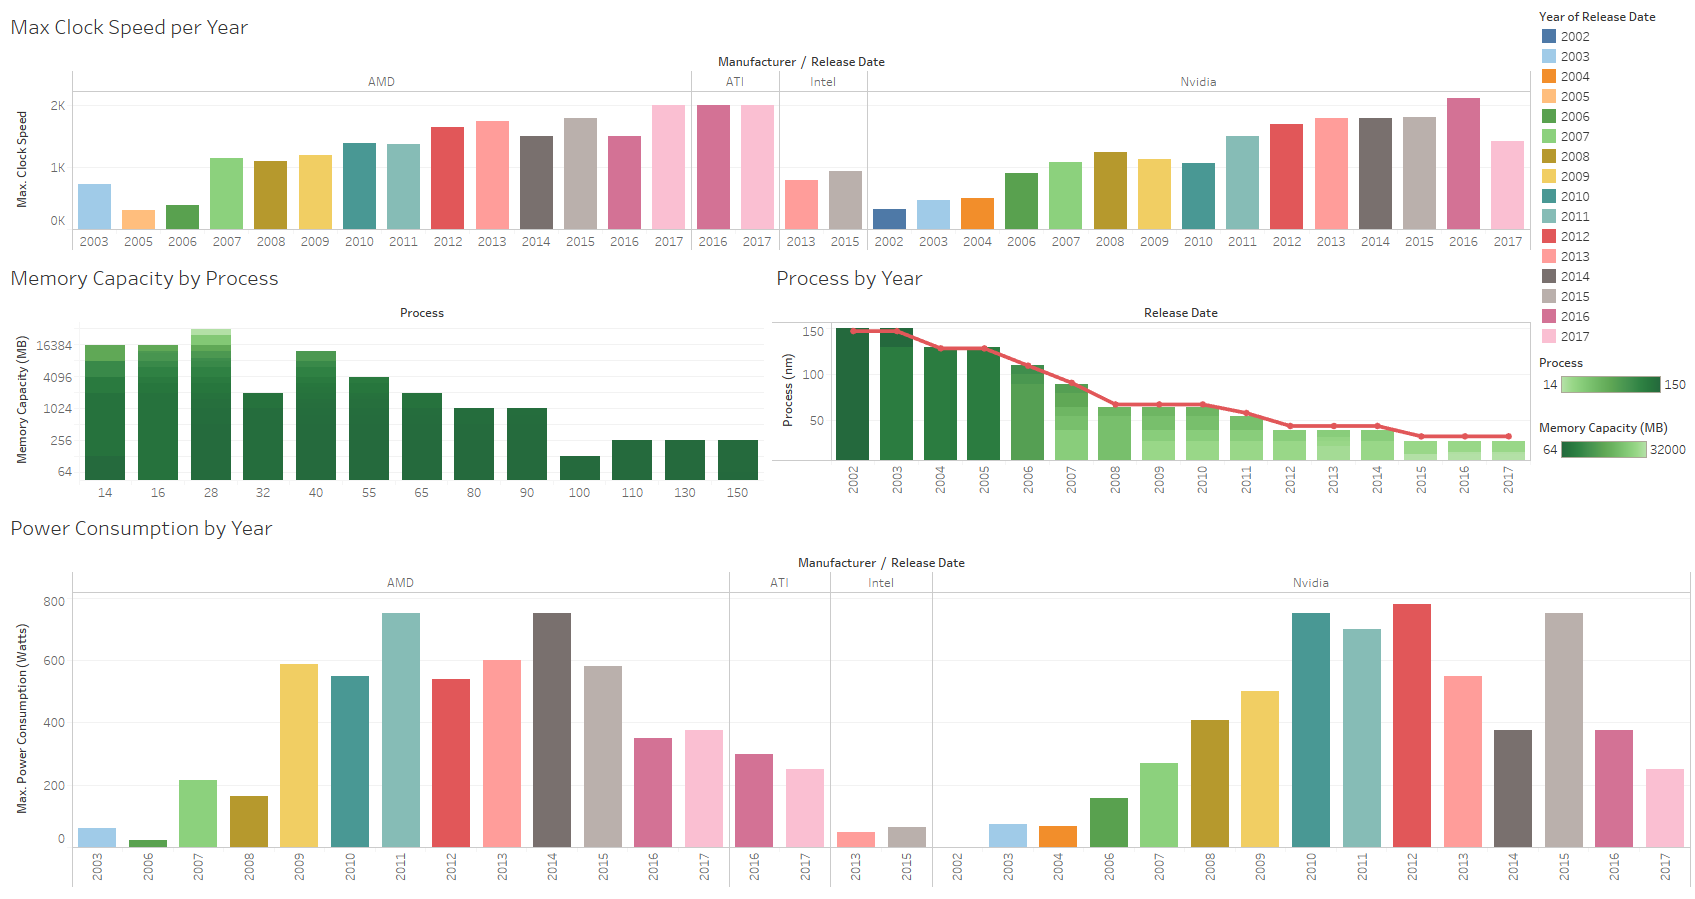

Layout of this report page (visuals, bound fields, positions):
{"tool":"tableau","page":{"name":"Comparison by Year","canvas":[1000,1000],"units":"permille","ordinal":0},"visuals":[{"type":"worksheet","box":[0,0,1000,1000]},{"type":"worksheet","param":"horz","box":[4.7,8.8,990.6,554.2]},{"type":"worksheet","box":[4.7,8.8,897,554.2]},{"type":"worksheet","title":"Main 1","mark":"Bar","rows":["Clock Speed"],"cols":["Manufacturer","Release Date"],"box":[4.7,8.8,897,277.1]},{"type":"worksheet","param":"vert","box":[901.7,8.8,93.6,554.2]},{"type":"worksheet","title":"Main 1","mark":"Bar","rows":["Clock Speed"],"cols":["Manufacturer","Release Date"],"param":"[federated.0wlur4q09sdy9m19qv9sl0aawb4t].[yr:Release Date:ok]","box":[901.7,8.8,93.6,382.7]},{"type":"worksheet","title":"Main 4","mark":"Bar","rows":["Memory"],"cols":["Process"],"box":[4.7,286,448.5,277.1]},{"type":"worksheet","title":"Main 3","mark":"Bar","rows":["Process","Process"],"cols":["Release Date"],"box":[453.2,286,448.5,277.1]},{"type":"worksheet","title":"Main 3","mark":"Bar","rows":["Process","Process"],"cols":["Release Date"],"param":"[federated.0wlur4q09sdy9m19qv9sl0aawb4t].[none:Process:qk]","box":[901.7,391.6,93.6,71.9]},{"type":"worksheet","title":"Main 4","mark":"Bar","rows":["Memory"],"cols":["Process"],"param":"[federated.0wlur4q09sdy9m19qv9sl0aawb4t].[none:Memory:qk]","box":[901.7,463.5,93.6,71.9]},{"type":"worksheet","title":"Main 5","mark":"Bar","rows":["Power Consumption"],"cols":["Manufacturer","Release Date"],"box":[4.7,563.1,990.6,428.1]}]}

Visuals, with their boxes on the dashboard's canvas, which has no fixed pixel size, in thousandths of its width and height (x1, y1, x2, y2). These are canvas units, not pixel positions in the 1695x899 screenshot, which may show the page scaled, cropped or inside an application window:
worksheet: <bbox>0, 0, 1000, 1000</bbox>
worksheet: <bbox>5, 9, 995, 563</bbox>
worksheet: <bbox>5, 9, 902, 563</bbox>
"Main 1" worksheet (Bar marks): <bbox>5, 9, 902, 286</bbox>
worksheet: <bbox>902, 9, 995, 563</bbox>
"Main 1" worksheet (Bar marks): <bbox>902, 9, 995, 392</bbox>
"Main 4" worksheet (Bar marks): <bbox>5, 286, 453, 563</bbox>
"Main 3" worksheet (Bar marks): <bbox>453, 286, 902, 563</bbox>
"Main 3" worksheet (Bar marks): <bbox>902, 392, 995, 464</bbox>
"Main 4" worksheet (Bar marks): <bbox>902, 464, 995, 535</bbox>
"Main 5" worksheet (Bar marks): <bbox>5, 563, 995, 991</bbox>
